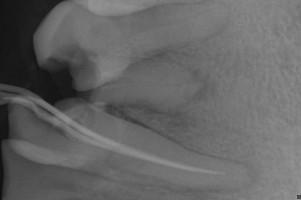Furcation Involvement: (221, 160, 259, 194), (192, 69, 219, 102)
